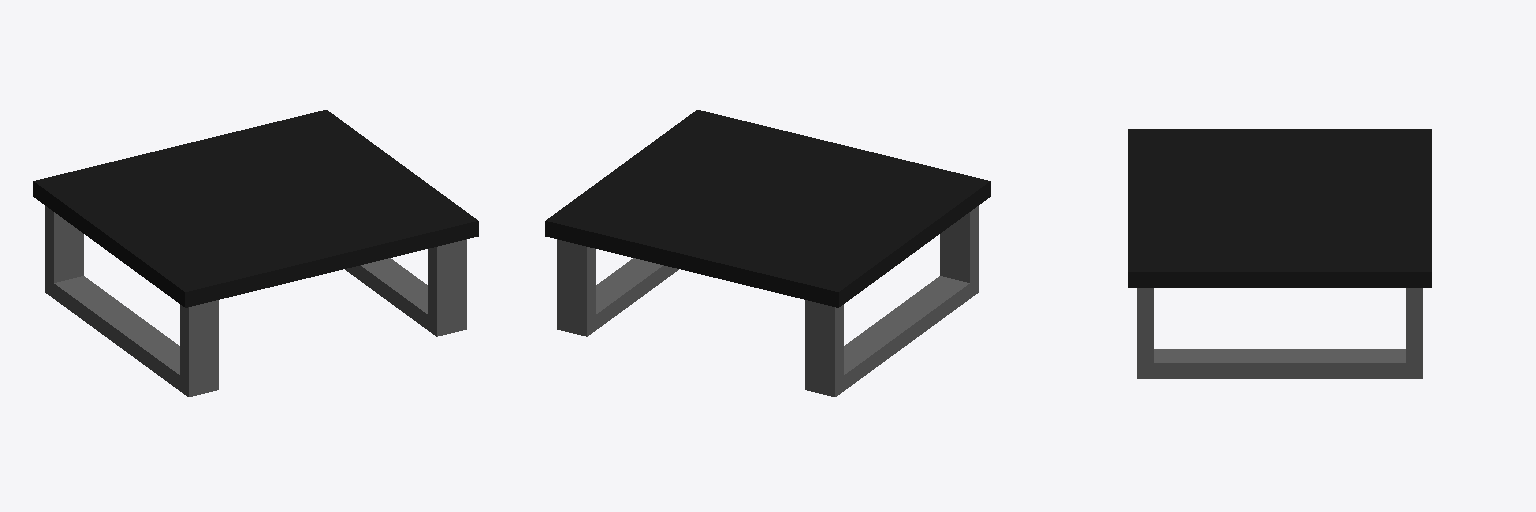
3 renders of one model, left to right at view 1: azimuth 30°, elevation 25°; view 2: azimuth 150°, elevation 25°; view 3: azimuth 270°, elevation 25°, orthographic.
Parts seen in each view (by area): view 1: object 1; view 2: object 1; view 3: object 1.
Boxes of the visible parts, <box> form: object 1: <box>33,110,478,396</box>; object 1: <box>545,110,990,396</box>; object 1: <box>1128,129,1431,378</box>.
Size of the model in its own units: 3.9 by 1.4 by 3.5.
1 materials, 1 textured.